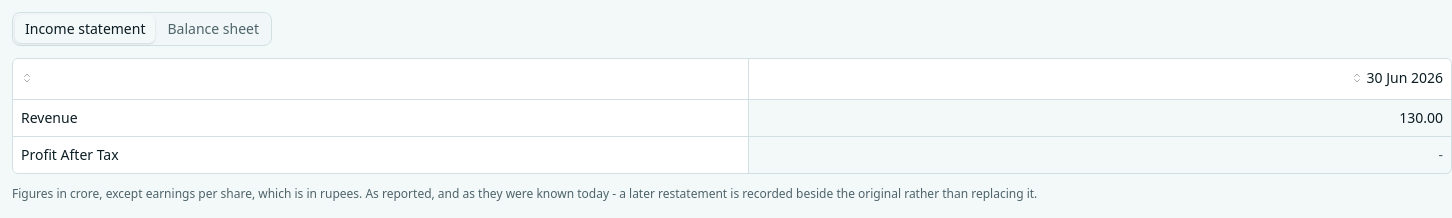
Test: Financials › keeps showing something when a choice does not exist for the new statement
Click the button "Income statement" at (85, 29), box [15,15,156,43]
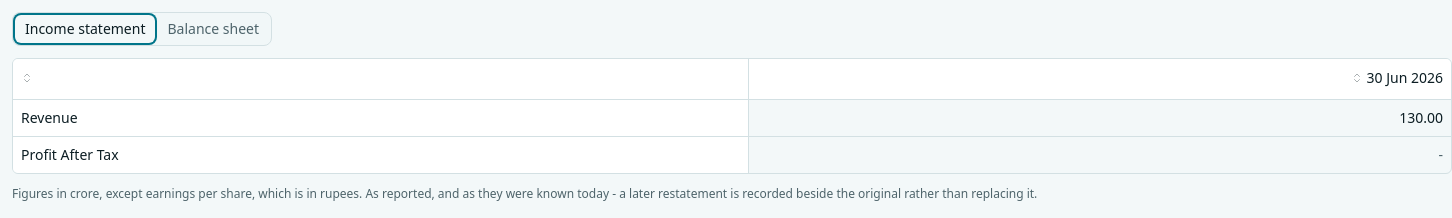
Click the button "Balance sheet" at (213, 29), box [158,15,269,43]
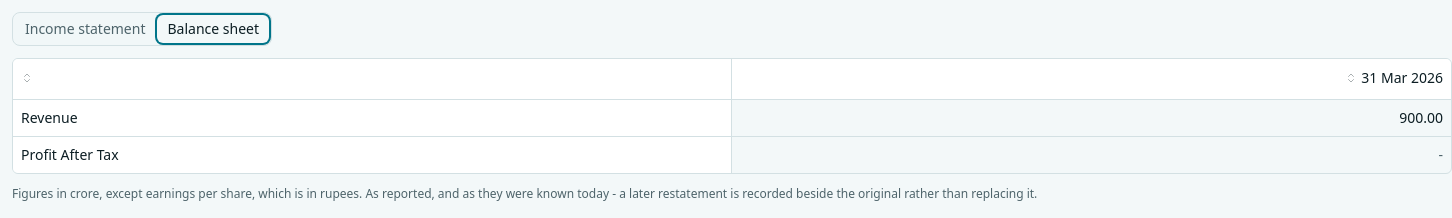
Now the text "900.00" is shown, box [1399,108,1443,127]
